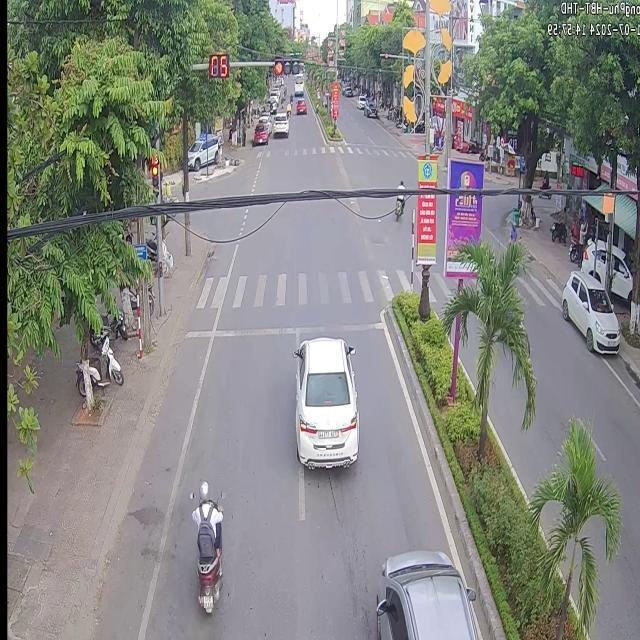car: (374, 549, 473, 638), (292, 336, 357, 467)
motobike: (190, 478, 222, 611), (393, 194, 406, 218), (396, 178, 402, 187)
red_light: (270, 51, 301, 76), (148, 154, 158, 187), (152, 136, 158, 147)
stop_line: (182, 321, 383, 336)
